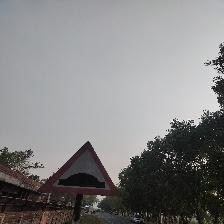Speed-breaker: (39, 143, 118, 196)
